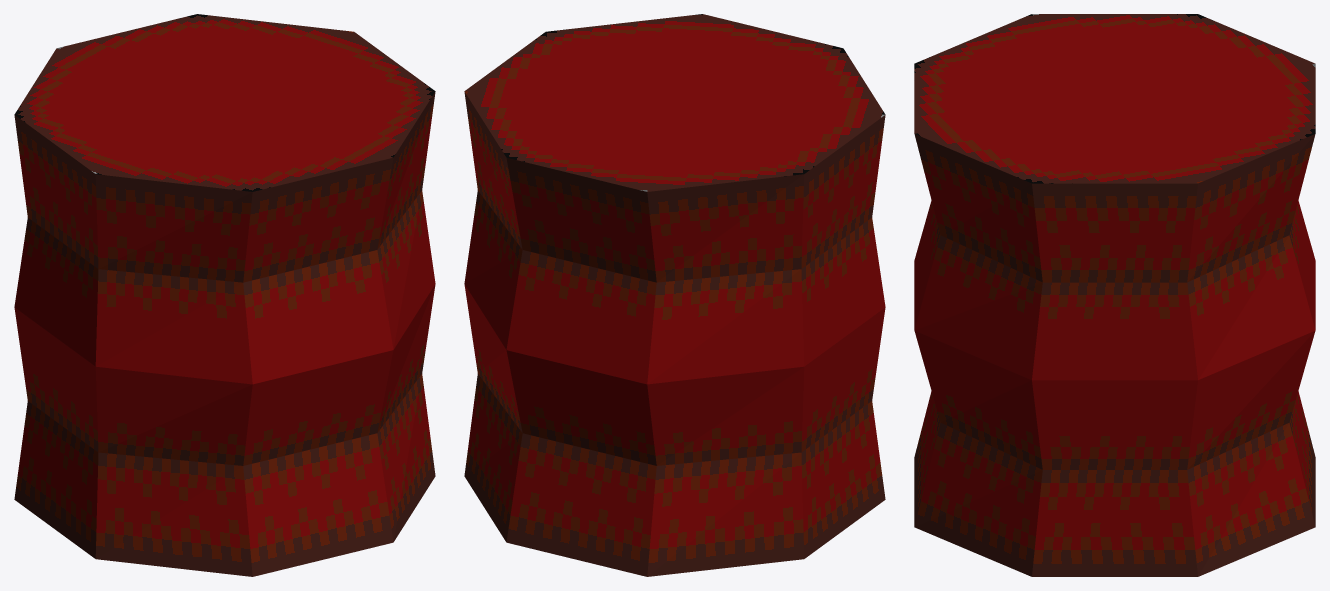
The model's file is red_barrel.gltf.
3 renders of one model, left to right at view 1: azimuth 30°, elevation 25°; view 2: azimuth 150°, elevation 25°; view 3: azimuth 270°, elevation 25°, orthographic. The views are drawn at different scales.
Parts seen in each view (by area): view 1: red_barrel; view 2: red_barrel; view 3: red_barrel.
Boxes of the visible parts, x1,y1,x2,y2 form: red_barrel: [14, 14, 435, 576]; red_barrel: [464, 14, 885, 576]; red_barrel: [914, 14, 1315, 576].
Size of the model in its own units: 0.9239 by 1 by 0.9239.
1 material, 1 textured.
